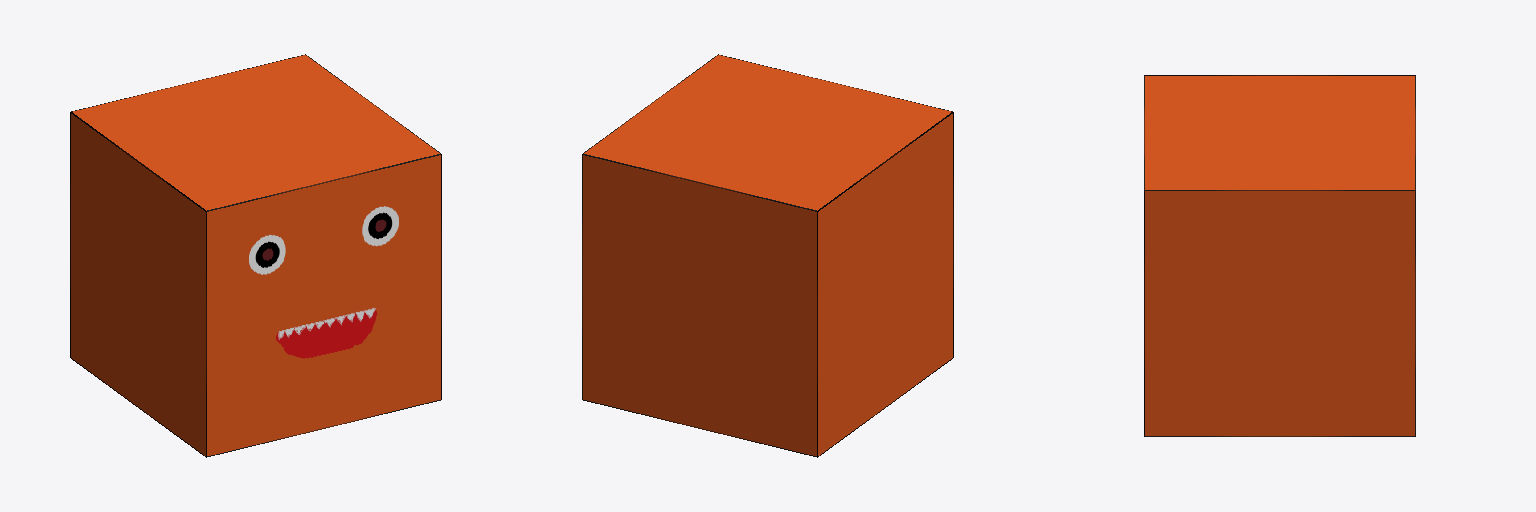
3 renders of one model, left to right at view 1: azimuth 30°, elevation 25°; view 2: azimuth 150°, elevation 25°; view 3: azimuth 270°, elevation 25°, orthographic.
Visible parts, largest first — view 1: 立方体; view 2: 立方体; view 3: 立方体.
Part boxes in pixels (bbox=[...]): 立方体: bbox=[70, 54, 441, 457]; 立方体: bbox=[582, 54, 953, 457]; 立方体: bbox=[1144, 75, 1415, 436].
Size of the model in its own units: 2 by 2 by 2.
Materials: 1 (1 with a texture image).